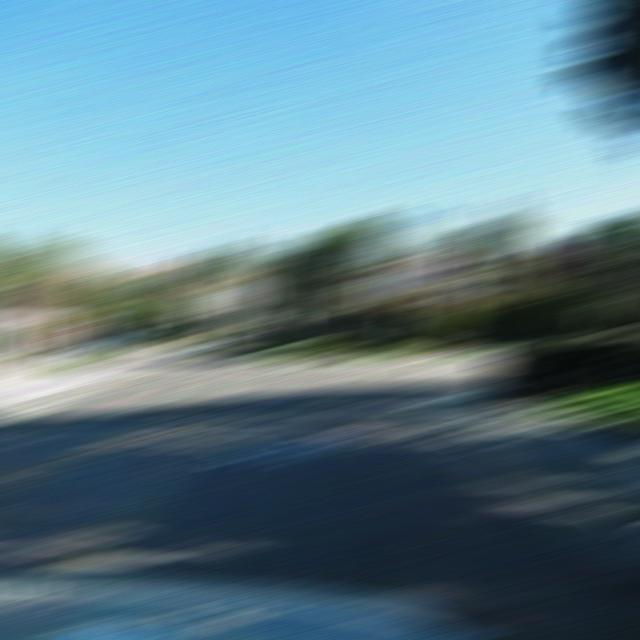stop: (514, 244, 567, 284)
